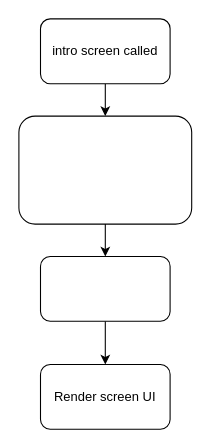
The diagram is 211 pixels wide and 448 high, and some of its shapes have lost their labels. Here are the shapes that lost their labels. From the top down, the box of each, then its label:
(18, 115, 192, 224): assign images with it's path and pass it to it's pages .
(39, 255, 170, 321): Load images in memory
